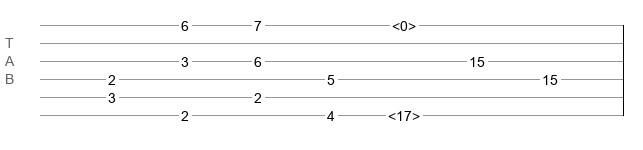15: (469, 54, 485, 64), (542, 72, 558, 82)
2: (108, 72, 116, 82), (181, 108, 189, 118), (254, 90, 262, 100)
3: (108, 90, 116, 100), (181, 54, 189, 64)
4: (327, 108, 335, 118)
5: (327, 72, 335, 82)
6: (181, 18, 189, 28), (254, 54, 262, 64)
7: (254, 18, 262, 28)
harmonic: (388, 108, 420, 118), (392, 18, 416, 28)
